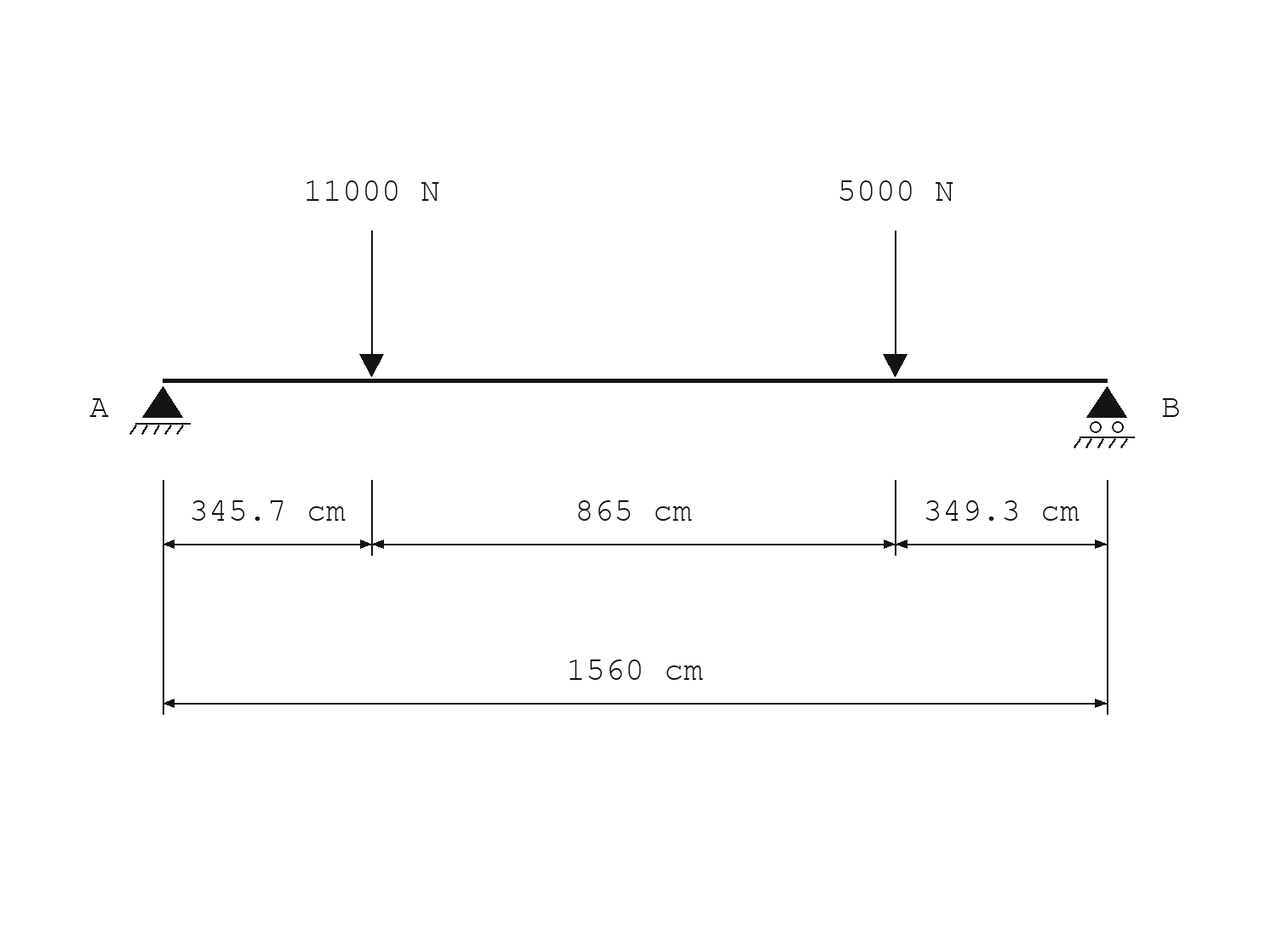pin_support: (129, 386, 191, 435)
point_load: (359, 231, 384, 377), (883, 231, 908, 377)
roller_support: (1074, 386, 1135, 448)
